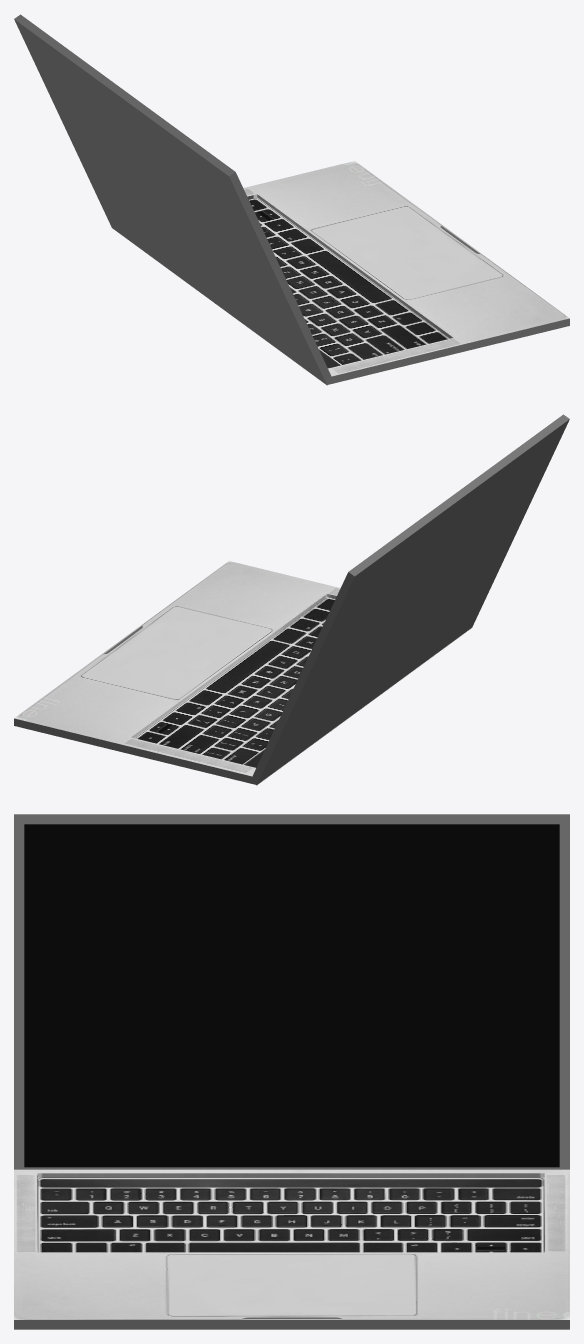
Rendered from Laptop.glb.
The picture shows the model from 3 angles, top to bottom: view 1: azimuth 30°, elevation 25°; view 2: azimuth 150°, elevation 25°; view 3: azimuth 270°, elevation 25°; orthographic projection. The views are drawn at different scales.
Visible parts, largest first — view 1: Cube, Cube.001; view 2: Cube, Cube.001; view 3: Cube.001, Cube.
Part boxes in pixels (x1,y1,x2,y2): Cube: (112,161,569,384); Cube.001: (14,14,331,385); Cube: (14,561,471,784); Cube.001: (251,414,569,785); Cube.001: (14,814,569,1169); Cube: (14,1169,569,1329).
Size of the model in its own units: 0.749 by 0.4955 by 0.819.
4 materials, 1 textured.
